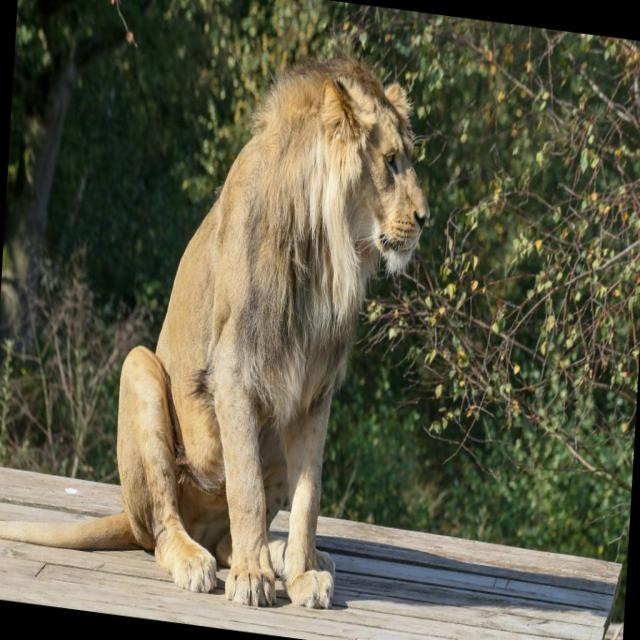Lion: (0, 0, 437, 626)
